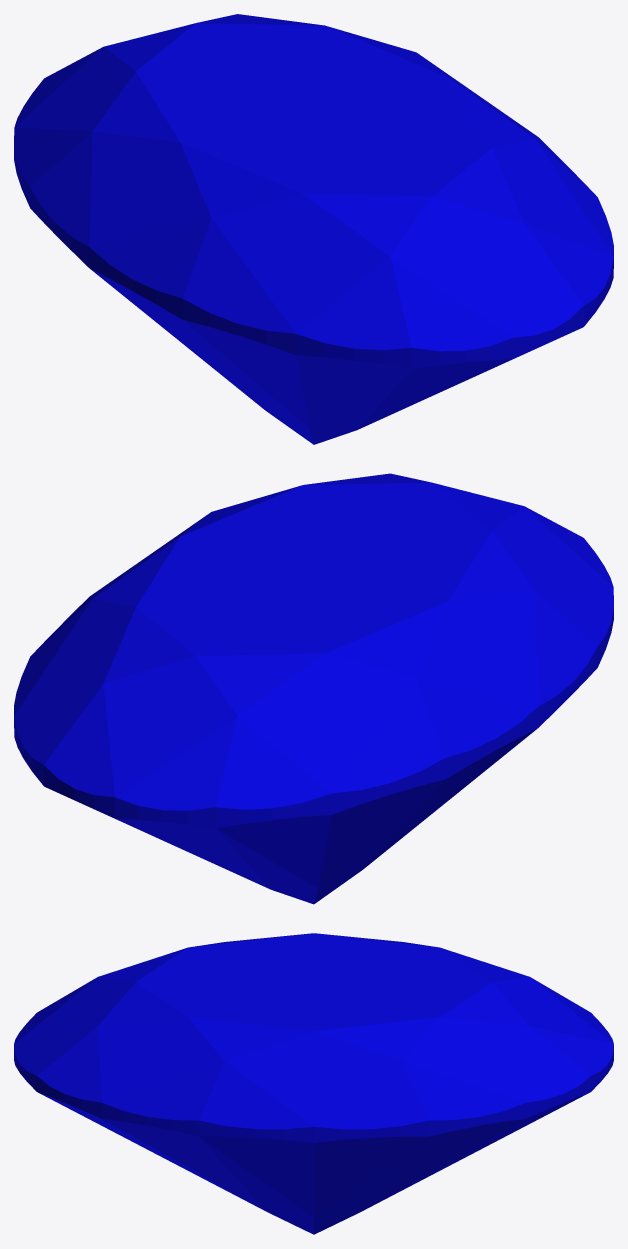
Rendered from Head_Hidden Halo_Oval_3.0ct_Diamond.glb.
3 views of the same model, one above another, from view 1: azimuth 30°, elevation 25°; view 2: azimuth 150°, elevation 25°; view 3: azimuth 270°, elevation 25° (orthographic). The views are drawn at different scales.
Size of the model in its own units: 0.00748 by 0.00533 by 0.0115.
